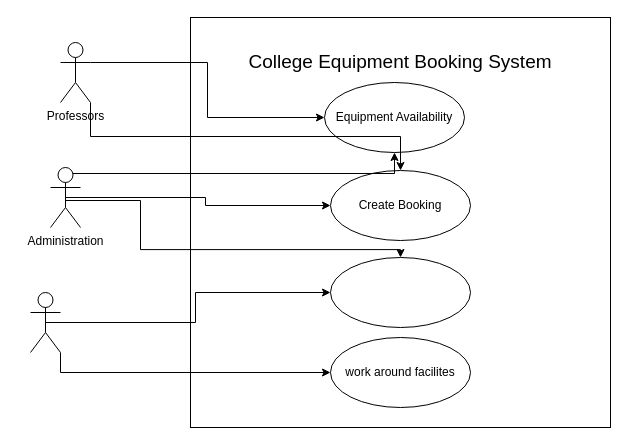
Some shapes in this 628 by 445 pixel diagram are drawn without their labels. Here are the shapes that lost their labels. From the top down, the centre of each, then its label:
(400,292): Record Equipment Return
(45,322): Mechanics
